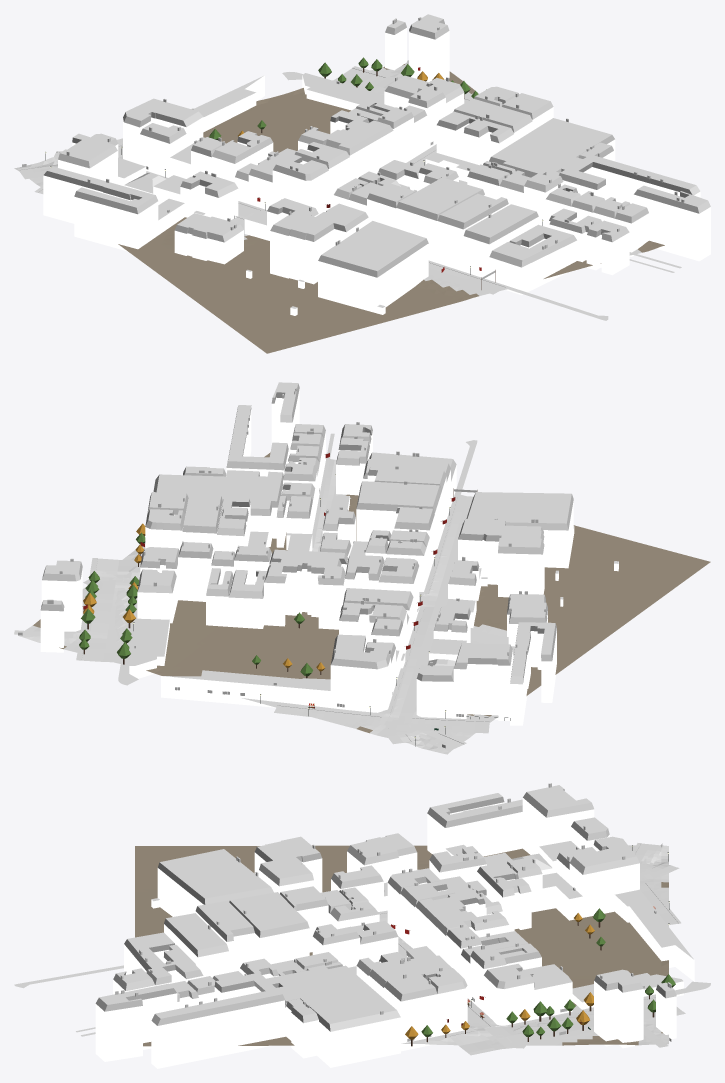
File: zone_C4.glb
The picture shows the model from 3 angles, top to bottom: view 1: azimuth 30°, elevation 25°; view 2: azimuth 150°, elevation 25°; view 3: azimuth 270°, elevation 25°; orthographic projection. The views are drawn at different scales.
Parts seen in each view (by area): view 1: zone_C4_batiments, zone_C4_terrain, zone_C4_sol_NOCOL, zone_C4_decor_NOCOL; view 2: zone_C4_batiments, zone_C4_terrain, zone_C4_sol_NOCOL, zone_C4_decor_NOCOL; view 3: zone_C4_batiments, zone_C4_terrain, zone_C4_sol_NOCOL, zone_C4_decor_NOCOL.
Part boxes in pixels (box(x1,y1,x2,y2)): zone_C4_batiments: box(43, 14, 710, 315); zone_C4_terrain: box(14, 60, 664, 353); zone_C4_sol_NOCOL: box(18, 66, 681, 320); zone_C4_decor_NOCOL: box(45, 57, 543, 274); zone_C4_batiments: box(40, 382, 618, 725); zone_C4_terrain: box(18, 452, 710, 754); zone_C4_sol_NOCOL: box(14, 433, 508, 751); zone_C4_decor_NOCOL: box(79, 474, 510, 746); zone_C4_batiments: box(95, 783, 694, 1068); zone_C4_terrain: box(135, 845, 668, 1046); zone_C4_sol_NOCOL: box(14, 843, 710, 1055); zone_C4_decor_NOCOL: box(405, 845, 675, 1046).
Size of the model in its own units: 223 by 33.43 by 274.
